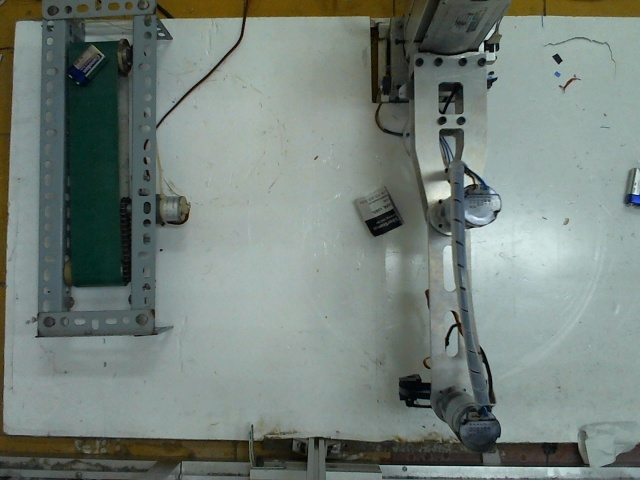battery: (67, 45, 106, 85)
